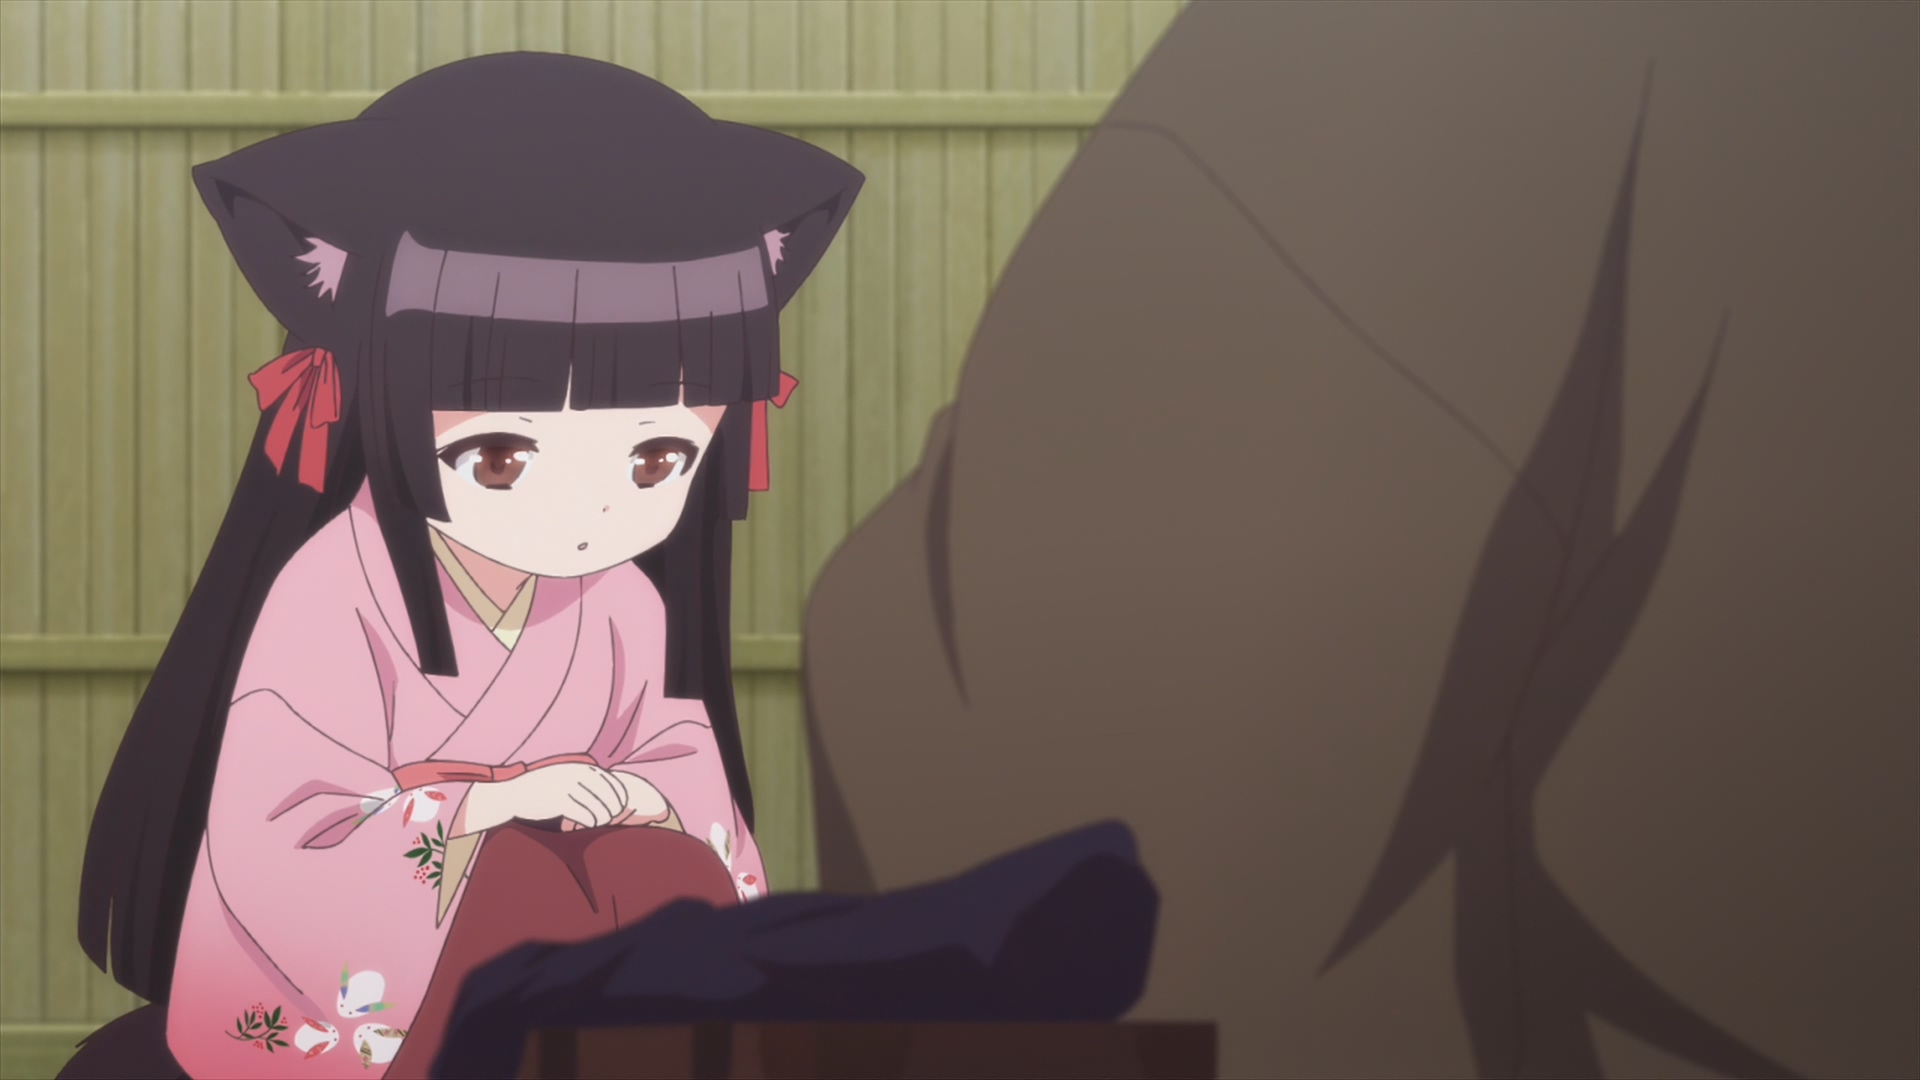其他: (800, 1, 1920, 1080)
樱: (55, 51, 865, 1080)
